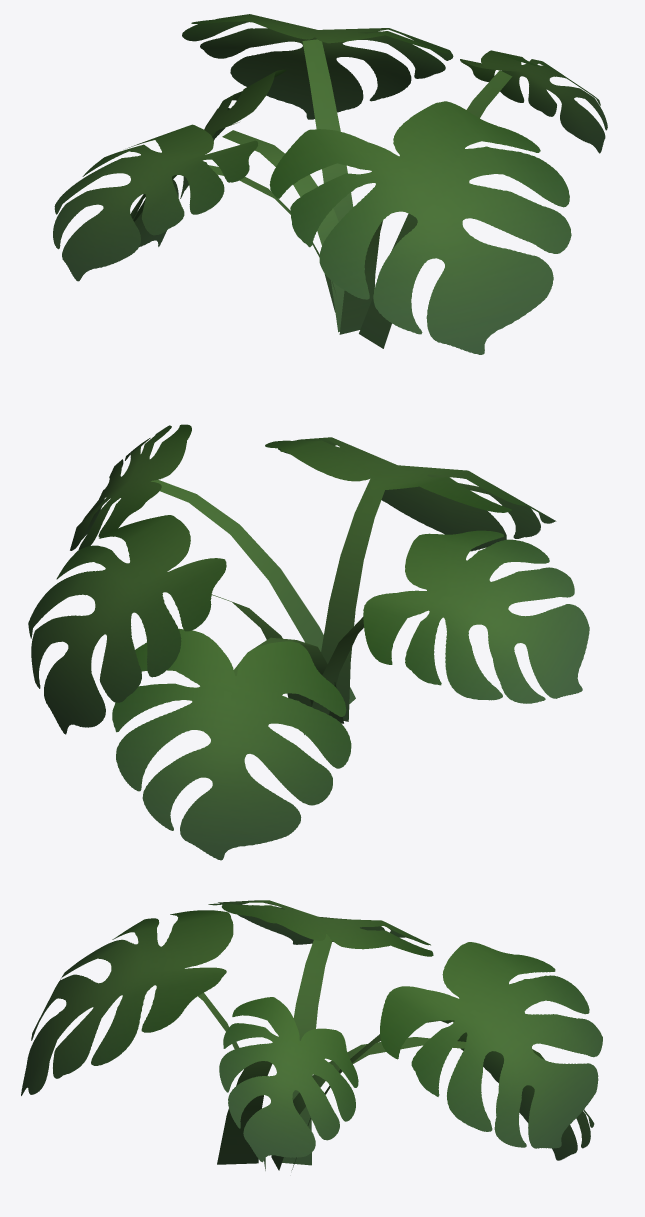
The model's file is Plante_3.fbx.
3 renders of one model, top to bottom at view 1: azimuth 30°, elevation 25°; view 2: azimuth 150°, elevation 25°; view 3: azimuth 270°, elevation 25°, orthographic. The views are drawn at different scales.
Parts seen in each view (by area): view 1: Plante_3; view 2: Plante_3; view 3: Plante_3.
Boxes of the visible parts, <box> form: Plante_3: <box>53,14,607,354</box>; Plante_3: <box>28,424,589,860</box>; Plante_3: <box>21,900,602,1170</box>.
Bounding box in the file's own units: 75.61 × 39.58 × 81.86.
